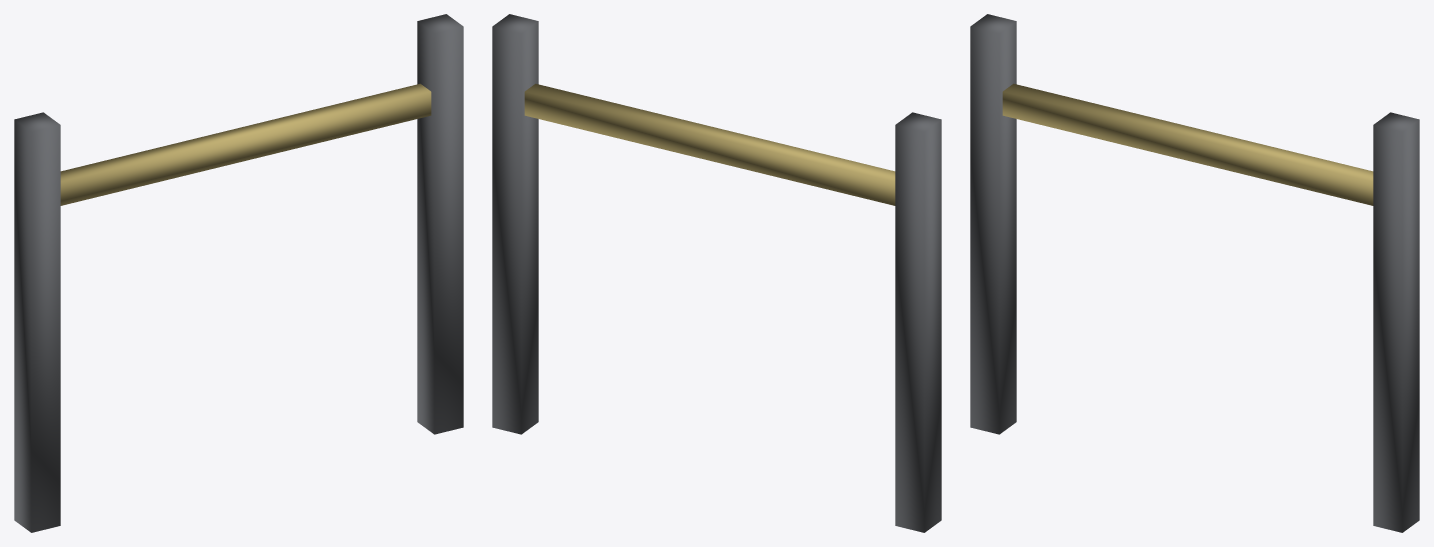
The model's file is queue_gate_01.glb.
3 views of the same model, side by side, from view 1: azimuth 30°, elevation 25°; view 2: azimuth 150°, elevation 25°; view 3: azimuth 330°, elevation 25° (orthographic).
Parts seen in each view (by area): view 1: world; view 2: world; view 3: world.
Part boxes in pixels (x1,y1,x2,y2): world: [14, 14, 463, 532]; world: [492, 14, 941, 532]; world: [970, 14, 1419, 532].
Size of the model in its own units: 1.04 by 0.92 by 0.072.
